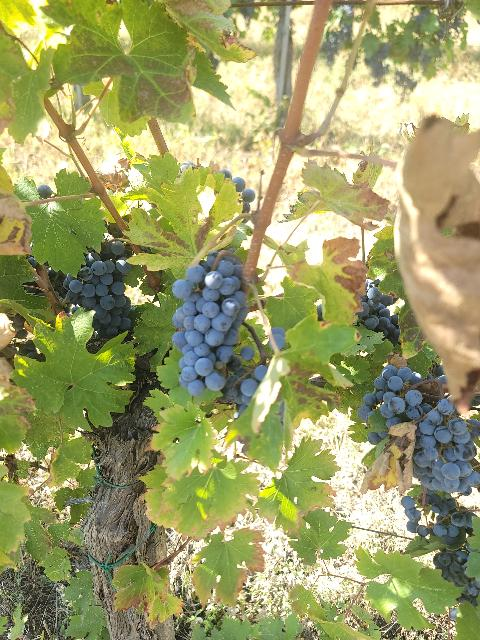grapes: (171, 251, 249, 396), (63, 241, 131, 338), (414, 399, 479, 494), (358, 365, 432, 428)
